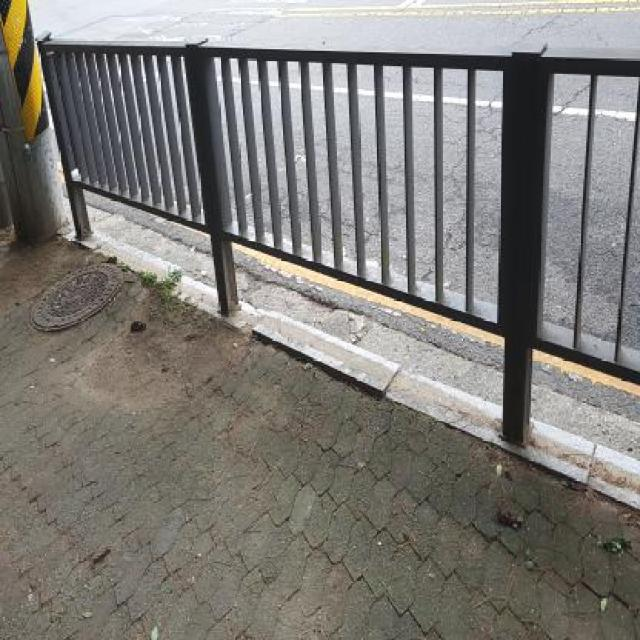fence: (188, 0, 640, 520), (20, 2, 279, 370)
